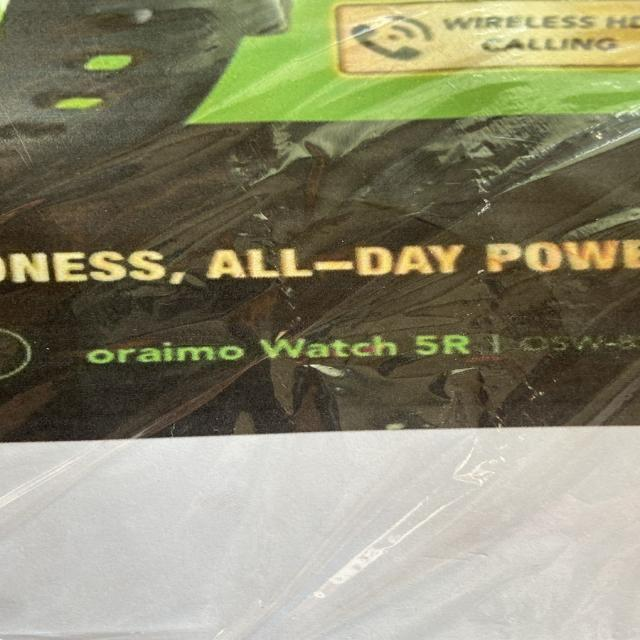Oraimo Watch 5R OSW-820: (84, 322, 639, 369)
